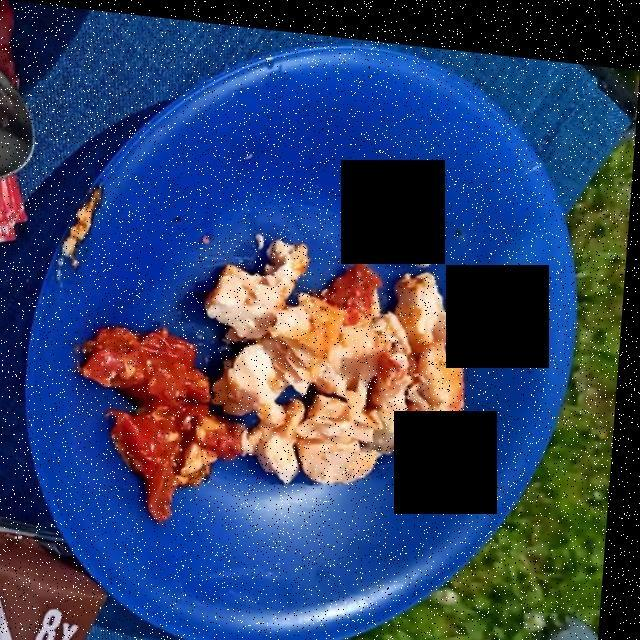salmon: (219, 226, 481, 472)
